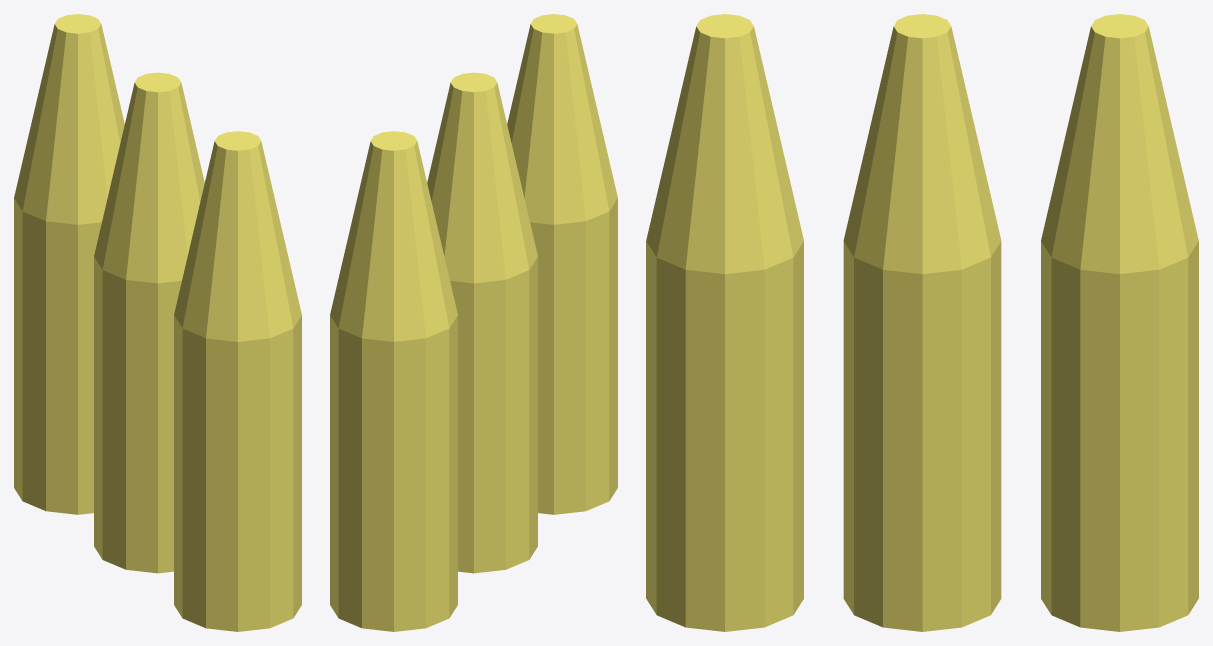
Rendered from Ammo.fbx.
3 views of the same model, side by side, from view 1: azimuth 30°, elevation 25°; view 2: azimuth 150°, elevation 25°; view 3: azimuth 270°, elevation 25° (orthographic). The views are drawn at different scales.
Visible parts, largest first — view 1: Ammo; view 2: Ammo; view 3: Ammo.
Part boxes in pixels (x1,y1,x2,y2): Ammo: (14,14,301,631); Ammo: (330,14,617,631); Ammo: (646,14,1198,631).
Bounding box in the file's own units: 0.2 × 0.8 × 0.7.
